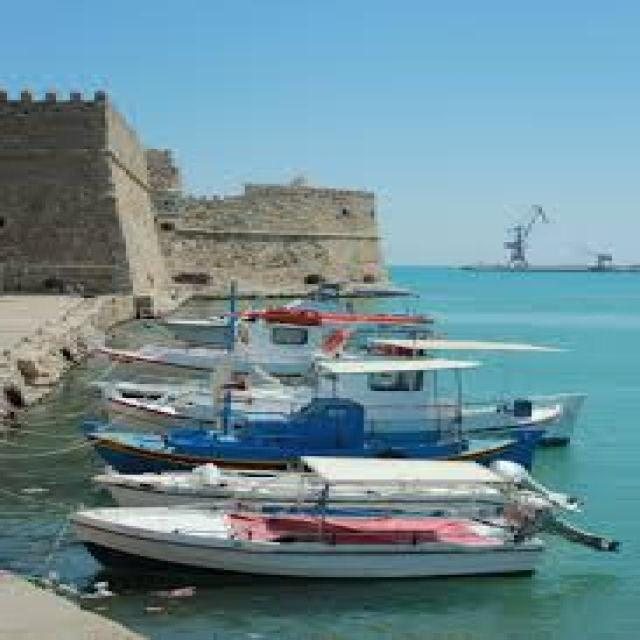Kules: (1, 91, 421, 297)
